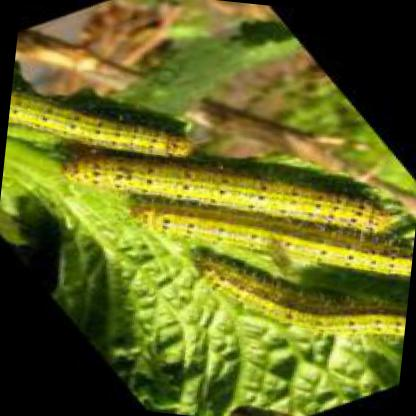pieris: (53, 158, 398, 239), (143, 210, 411, 282)
